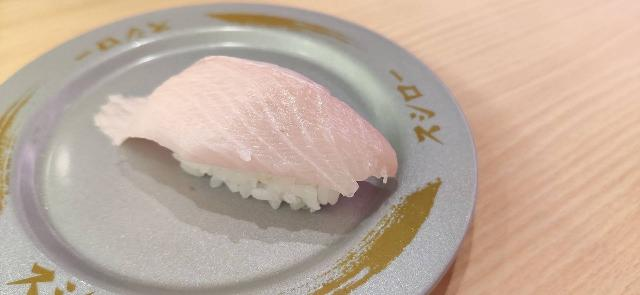janwhite: (18, 14, 456, 295)
